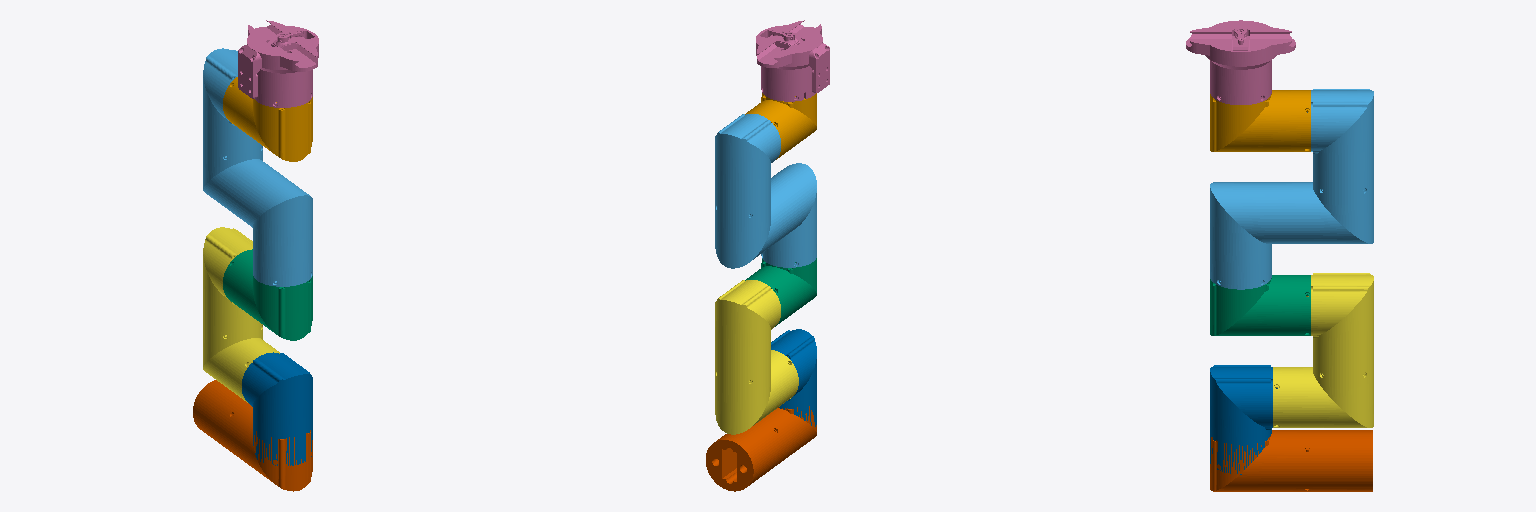
The robot description file, URDF, robot "SnekBot":
<?xml version='1.0' encoding='utf-8'?>
<robot name="SnekBot">
    <link name="Joint4">
        <inertial>
            <origin xyz="-7.31917079953468e-07 -0.002720965823309811 -0.06094824846597635" rpy="0.0 9.921302603843483e-48 0.0" />
            <mass value="2.170299150249054" />
            <inertia ixx="0.0027369740583502167" iyy="0.0024848909411751404" izz="0.0016684338780074029" ixy="3.1615957201416657e-09" iyz="-0.00013503545039505189" ixz="-2.4536414205745006e-08" />
        </inertial>
        <visual name="Joint4_visual">
            <origin xyz="3.596647202286215e-15 0.4625999999999996 -0.0007379999999927911" rpy="1.5707963267949114 1.2767564783189294e-15 8.326672684699702e-17" />
            <geometry>
                <mesh filename="meshes/Joint4.stl" scale="0.001 0.001 0.001" />
            </geometry>
        </visual>
        <collision name="Joint4_collision">
            <origin xyz="3.596647202286215e-15 0.4625999999999996 -0.0007379999999927911" rpy="1.5707963267949114 1.2767564783189294e-15 8.326672684699702e-17" />
            <geometry>
                <mesh filename="meshes/Joint4.stl" scale="0.001 0.001 0.001" />
            </geometry>
        </collision>
    </link>
    <link name="Joint3">
        <inertial>
            <origin xyz="1.4095052347553083e-07 -0.06948927422346683 -0.1036765010036558" rpy="0.0 -0.0 1.302943823802202e-60" />
            <mass value="6.860254512476634" />
            <inertia ixx="0.04322168904318646" iyy="0.024701649748137336" izz="0.023746903476123016" ixy="1.2762196315046873e-07" iyz="-0.012385996929821124" ixz="1.9820953079882099e-07" />
        </inertial>
        <visual name="Joint3_visual">
            <origin xyz="-1.1449940995334026e-14 -0.07946199999999974 0.2678000000000019" rpy="3.14159265358979 -8.326672684687583e-17 2.7200464103316296e-15" />
            <geometry>
                <mesh filename="meshes/Joint3.stl" scale="0.001 0.001 0.001" />
            </geometry>
        </visual>
        <collision name="Joint3_collision">
            <origin xyz="-1.1449940995334026e-14 -0.07946199999999974 0.2678000000000019" rpy="3.14159265358979 -8.326672684687583e-17 2.7200464103316296e-15" />
            <geometry>
                <mesh filename="meshes/Joint3.stl" scale="0.001 0.001 0.001" />
            </geometry>
        </collision>
    </link>
    <link name="Joint2">
        <inertial>
            <origin xyz="-7.319170719899921e-07 -0.0027209737564369975 -0.060948248465979474" rpy="3.944304526105059e-31 2.8562667779245755e-62 9.723461371658036e-63" />
            <mass value="2.170299150249074" />
            <inertia ixx="0.0027369739646554694" iyy="0.002484890941175248" izz="0.0016684337843118771" ixy="3.0223270633993016e-09" iyz="-0.00013503450489255433" ixz="-2.453641537002849e-08" />
        </inertial>
        <visual name="Joint2_visual">
            <origin xyz="-1.598721155460225e-16 0.2318000000000018 -0.0007380000000009268" rpy="1.5707963267948906 2.720046410331629e-15 4.494350118222054e-30" />
            <geometry>
                <mesh filename="meshes/Joint2.stl" scale="0.001 0.001 0.001" />
            </geometry>
        </visual>
        <collision name="Joint2_collision">
            <origin xyz="-1.598721155460225e-16 0.2318000000000018 -0.0007380000000009268" rpy="1.5707963267948906 2.720046410331629e-15 4.494350118222054e-30" />
            <geometry>
                <mesh filename="meshes/Joint2.stl" scale="0.001 0.001 0.001" />
            </geometry>
        </collision>
    </link>
    <link name="Joint1">
        <inertial>
            <origin xyz="3.744606777828738e-07 0.04699627745454283 -0.0685629731482273" rpy="0.0 -0.0 0.0" />
            <mass value="4.508264373489419" />
            <inertia ixx="0.016620854857406553" iyy="0.0053441181213154994" izz="0.014592584381142786" ixy="-8.382678952684783e-08" iyz="0.0017626733716701998" ixz="1.5732307931698983e-08" />
        </inertial>
        <visual name="Joint1_visual">
            <origin xyz="1.6431300764452317e-16 -0.11640000000000093 -0.04326200000000045" rpy="-1.5707963267948974 1.8873791418627653e-15 -2.7918280473837364e-30" />
            <geometry>
                <mesh filename="meshes/Joint1.stl" scale="0.001 0.001 0.001" />
            </geometry>
        </visual>
        <collision name="Joint1_collision">
            <origin xyz="1.6431300764452317e-16 -0.11640000000000093 -0.04326200000000045" rpy="-1.5707963267948974 1.8873791418627653e-15 -2.7918280473837364e-30" />
            <geometry>
                <mesh filename="meshes/Joint1.stl" scale="0.001 0.001 0.001" />
            </geometry>
        </collision>
    </link>
    <link name="Joint0">
        <inertial>
            <origin xyz="-7.319170712847745e-07 -0.002720973756436303 -0.06094825459578699" rpy="0.0 -0.0 0.0" />
            <mass value="2.1702991502490603" />
            <inertia ixx="0.002736974476887293" iyy="0.002484891453407082" izz="0.0016684337843122705" ixy="3.02232709200435e-09" iyz="-0.00013503500652223816" ixz="-2.4846328416756894e-08" />
        </inertial>
        <visual name="Joint0_visual">
            <origin xyz="2.77623088262075e-17 -0.07946200000000013 0.036200000000001335" rpy="3.141592653589792 -1.0947644252537633e-47 -2.0184719090619762e-47" />
            <geometry>
                <mesh filename="meshes/Joint0.stl" scale="0.001 0.001 0.001" />
            </geometry>
        </visual>
        <collision name="Joint0_collision">
            <origin xyz="2.77623088262075e-17 -0.07946200000000013 0.036200000000001335" rpy="3.141592653589792 -1.0947644252537633e-47 -2.0184719090619762e-47" />
            <geometry>
                <mesh filename="meshes/Joint0.stl" scale="0.001 0.001 0.001" />
            </geometry>
        </collision>
    </link>
    <link name="Base">
        <inertial>
            <origin xyz="-4.1041387313046547e-07 -0.020138795421307955 0.037548882045009294" rpy="0.0 0.0 0.0" />
            <mass value="3.812666297852429" />
            <inertia ixx="0.012229530771495929" iyy="0.0028824086122589583" izz="0.012002916550538374" ixy="-8.788745509914179e-08" iyz="0.0003716725612075657" ixz="6.83863211127327e-10" />
        </inertial>
        <visual name="Base_visual">
            <origin xyz="0.0 0.0 0.0" rpy="0.0 0.0 0.0" />
            <geometry>
                <mesh filename="meshes/Base.stl" scale="0.001 0.001 0.001" />
            </geometry>
        </visual>
        <collision name="Base_collision">
            <origin xyz="0.0 0.0 0.0" rpy="0.0 0.0 0.0" />
            <geometry>
                <mesh filename="meshes/Base.stl" scale="0.001 0.001 0.001" />
            </geometry>
        </collision>
    </link>
    <link name="Joint5">
        <inertial>
            <origin xyz="-0.0025494513129547705 -7.658363454307156e-06 -0.04525477560826317" rpy="0.0 -0.0 -1.1973985901296076e-48" />
            <mass value="1.7334916519714307" />
            <inertia ixx="0.001411860378429108" iyy="0.0014611336500508494" izz="0.0017669596236022677" ixy="-1.053311216446286e-06" iyz="-1.0945239692345873e-06" ixz="1.6911554138108102e-05" />
        </inertial>
        <visual name="Joint5_visual">
            <origin xyz="-2.468165394286884e-14 -0.07946199999998849 0.4987999999999997" rpy="3.1415926535897682 -5.55111512312237e-17 1.2767564783189308e-15" />
            <geometry>
                <mesh filename="meshes/Joint5.stl" scale="0.001 0.001 0.001" />
            </geometry>
        </visual>
        <collision name="Joint5_collision">
            <origin xyz="-2.468165394286884e-14 -0.07946199999998849 0.4987999999999997" rpy="3.1415926535897682 -5.55111512312237e-17 1.2767564783189308e-15" />
            <geometry>
                <mesh filename="meshes/Joint5.stl" scale="0.001 0.001 0.001" />
            </geometry>
        </collision>
    </link>
    <joint name="Base_Revolute-0" type="revolute">
        <origin xyz="-5.742377618504593e-17 -0.07946200000000023 0.035" rpy="3.141592653589793 0 0" />
        <parent link="Base" />
        <child link="Joint0" />
        <axis xyz="0 0 1" />
        <limit lower="-2.356194" upper="2.356194" effort="87" velocity="2.175" />
    </joint>
    <joint name="Joint0_Revolute-1" type="revolute">
        <origin xyz="-6.192261280341597e-50 -0.036199999999999996 -0.0802" rpy="-1.5707963267948952 0 0" />
        <parent link="Joint0" />
        <child link="Joint1" />
        <axis xyz="0 0 1" />
        <limit lower="-2.356194" upper="2.356194" effort="87" velocity="2.175" />
    </joint>
    <joint name="Joint1_Revolute-2" type="revolute">
        <origin xyz="7.592786212752303e-33 0.11539999999999996 -0.04400000000000016" rpy="-3.1415926535897922 0 0" />
        <parent link="Joint1" />
        <child link="Joint2" />
        <axis xyz="0 0 1" />
        <limit lower="-2.356194" upper="2.356194" effort="87" velocity="2.175" />
    </joint>
    <joint name="Joint2_Revolute-3" type="revolute">
        <origin xyz="5.123092549358938e-32 -0.036200000000000225 -0.08019999999999991" rpy="-1.570796326794893 0 0" />
        <parent link="Joint2" />
        <child link="Joint3" />
        <axis xyz="0 0 1" />
        <limit lower="-2.356194" upper="2.356194" effort="87" velocity="2.175" />
    </joint>
    <joint name="Joint3_Revolute-4" type="revolute">
        <origin xyz="1.1040657277305825e-14 -0.0802000000000012 -0.19479999999999947" rpy="1.5707963267948506 0 0" />
        <parent link="Joint3" />
        <child link="Joint4" />
        <axis xyz="0 0 1" />
        <limit lower="-2.356194" upper="2.356194" effort="87" velocity="2.175" />
    </joint>
    <joint name="Joint4_Revolute-5" type="revolute">
        <origin xyz="1.8787416067335387e-15 -0.036199999999996846 -0.08020000000000144" rpy="-1.570796326794869 0 0" />
        <parent link="Joint4" />
        <child link="Joint5" />
        <axis xyz="0 0 1" />
        <limit lower="-2.356194" upper="2.356194" effort="87" velocity="2.175" />
    </joint>
</robot>

--- Facts derived from the render (not from the file) ---
The picture shows the robot from 3 angles, left to right: view 1: azimuth 30°, elevation 25°; view 2: azimuth 150°, elevation 25°; view 3: azimuth 270°, elevation 25°; orthographic projection.
Model SnekBot with 7 links and 6 joints (6 revolute), rooted at Base, posed every joint at zero.
Links seen in each view (by area): view 1: Joint3, Joint1, Joint0, Joint5, Base, Joint2, Joint4; view 2: Joint3, Joint1, Base, Joint5, Joint0, Joint4, Joint2; view 3: Joint3, Joint1, Base, Joint5, Joint0, Joint4, Joint2.
Link boxes in pixels (x1=…): Joint3: x1=203, y1=48, x2=312, y2=286; Joint1: x1=203, y1=227, x2=279, y2=402; Joint0: x1=242, y1=352, x2=312, y2=465; Joint5: x1=238, y1=20, x2=318, y2=107; Base: x1=193, y1=380, x2=312, y2=491; Joint2: x1=223, y1=249, x2=312, y2=340; Joint4: x1=223, y1=77, x2=312, y2=161; Joint3: x1=715, y1=114, x2=816, y2=268; Joint1: x1=715, y1=280, x2=798, y2=434; Base: x1=706, y1=406, x2=816, y2=491; Joint5: x1=756, y1=20, x2=829, y2=101; Joint0: x1=771, y1=329, x2=816, y2=426; Joint4: x1=745, y1=93, x2=816, y2=159; Joint2: x1=745, y1=258, x2=816, y2=326; Joint3: x1=1210, y1=89, x2=1373, y2=289; Joint1: x1=1273, y1=273, x2=1373, y2=427; Base: x1=1210, y1=430, x2=1372, y2=491; Joint5: x1=1186, y1=20, x2=1295, y2=104; Joint0: x1=1210, y1=365, x2=1277, y2=474; Joint4: x1=1210, y1=90, x2=1310, y2=151; Joint2: x1=1210, y1=275, x2=1310, y2=335.
Size in the robot's own frame: 0.0925 by 0.2139 by 0.5742 metres.
Meshes: 7 distinct files referenced, 7 mesh visuals loaded (7 binary STL).